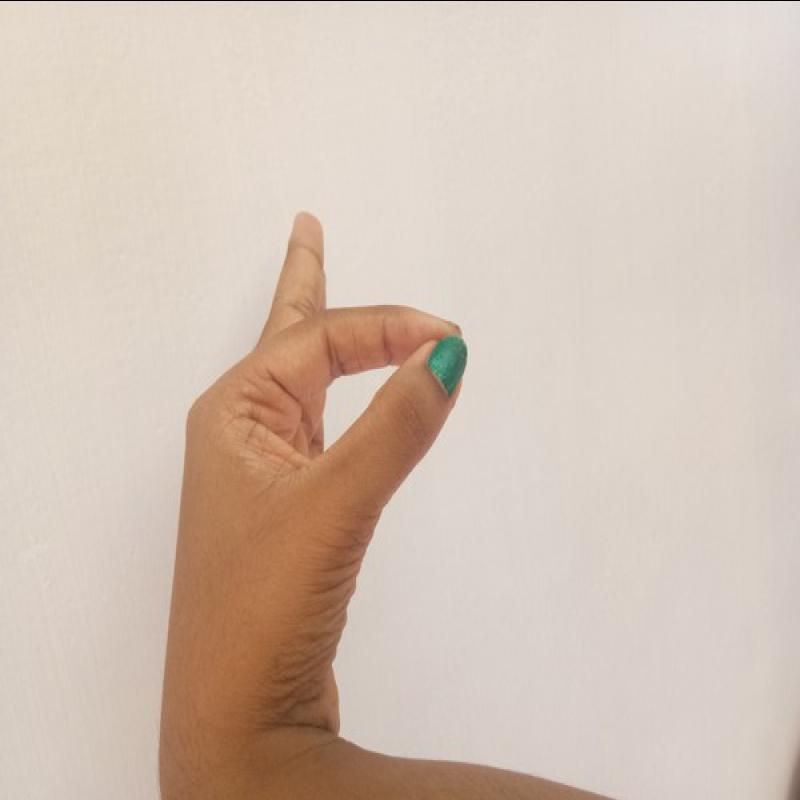Mudraakhyam: (141, 189, 553, 730)
